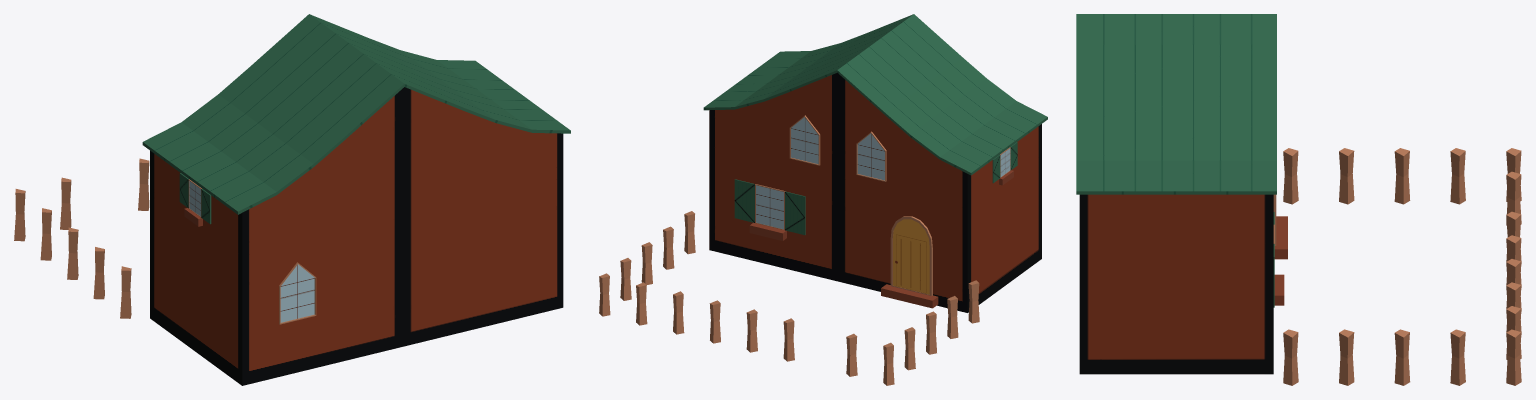
Rendered from Sulimo_Small_House_1_with_garden.fbx.
3 renders of one model, left to right at view 1: azimuth 30°, elevation 25°; view 2: azimuth 150°, elevation 25°; view 3: azimuth 270°, elevation 25°, orthographic. The views are drawn at different scales.
Parts seen in each view (by area): view 1: maison.001, Toit.002, fenetre chelou.005, Cube.010, Cube.006, Cube.008, Cube.016, Cube.011, Cube.009, Cube.007; view 2: maison.001, Toit.002, small door.002, Fenetre.002, fenetre chelou.004, fenetre chelou.003, volet gauche.004, volet gauche.005, marche.001, new small Door Frame.002, Cube.001, Cube.016 (+15 smaller); view 3: Toit.002, maison.001, Cube.002, Cube.001, Cube.005, Cube.010, Cube.007, Cube.004, Cube.009, Cube.008, Cube.003, Cube.011 (+7 smaller).
Part boxes in pixels (x1,y1,x2,y2): maison.001: [150, 87, 563, 385]; Toit.002: [142, 14, 570, 214]; fenetre chelou.005: [280, 264, 314, 322]; Cube.010: [120, 266, 131, 318]; Cube.006: [14, 189, 25, 241]; Cube.008: [67, 227, 78, 279]; Cube.016: [138, 158, 149, 210]; Cube.011: [60, 177, 71, 229]; Cube.009: [93, 247, 104, 299]; Cube.007: [40, 208, 51, 260]; maison.001: [709, 72, 1041, 312]; Toit.002: [703, 14, 1047, 175]; small door.002: [893, 219, 929, 294]; Fenetre.002: [756, 185, 783, 229]; fenetre chelou.004: [857, 133, 884, 180]; fenetre chelou.003: [791, 117, 818, 164]; volet gauche.004: [734, 179, 754, 222]; volet gauche.005: [785, 191, 805, 235]; marche.001: [881, 284, 938, 308]; new small Door Frame.002: [890, 216, 932, 295]; Cube.001: [599, 273, 610, 316]; Cube.016: [783, 318, 794, 361]; Toit.002: [1076, 14, 1276, 194]; maison.001: [1079, 194, 1273, 374]; Cube.002: [1450, 329, 1465, 385]; Cube.001: [1506, 329, 1521, 385]; Cube.005: [1283, 329, 1298, 385]; Cube.010: [1283, 148, 1298, 204]; Cube.007: [1450, 148, 1465, 204]; Cube.004: [1339, 329, 1354, 385]; Cube.009: [1339, 148, 1354, 204]; Cube.008: [1394, 148, 1410, 204]; Cube.003: [1394, 329, 1410, 385]; Cube.011: [1506, 171, 1521, 225].
Size of the model in its own units: 798 by 550 by 799.
